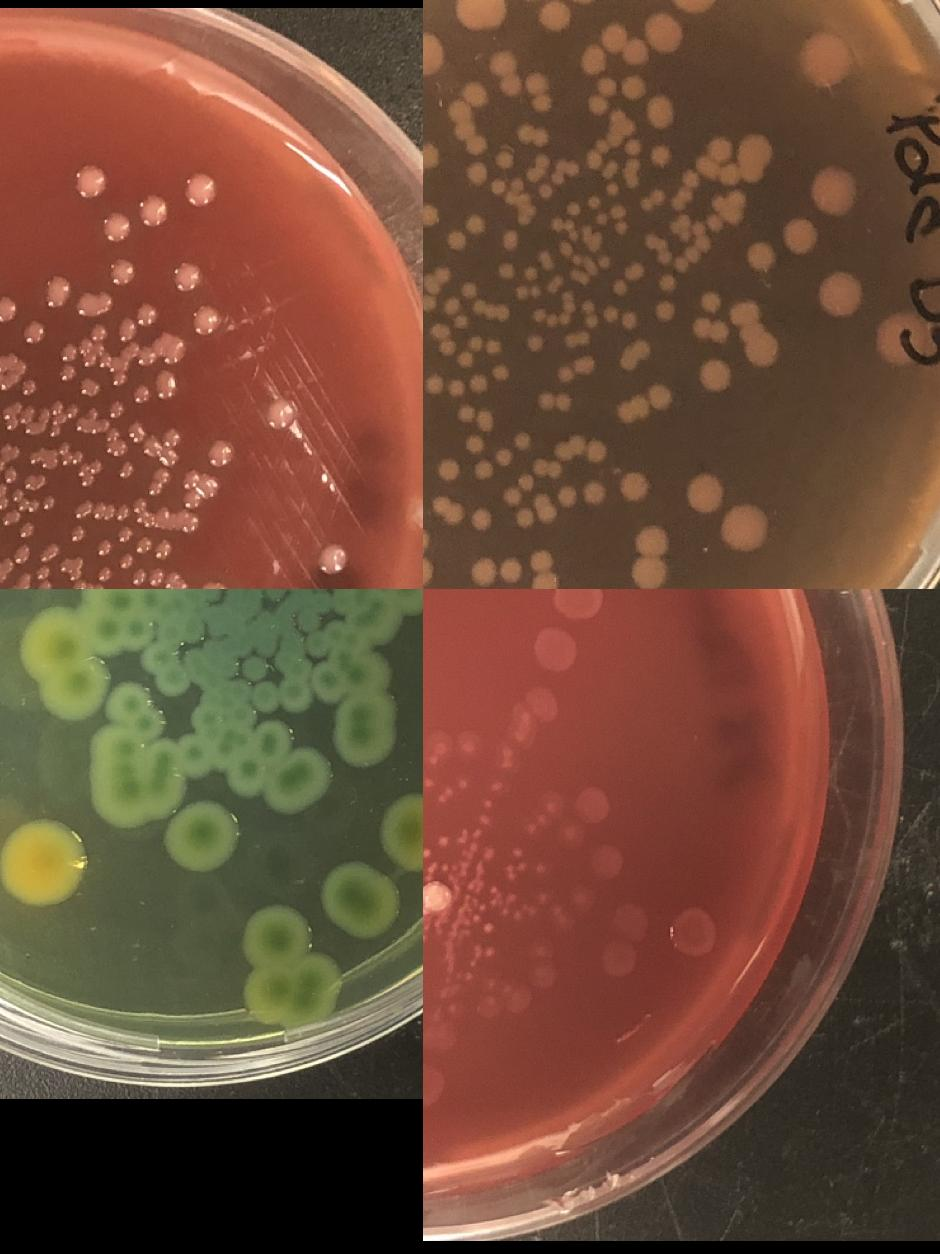pddamselae: (578, 11, 686, 75), (48, 400, 129, 459), (0, 444, 56, 515), (797, 28, 855, 88), (500, 470, 557, 530), (812, 265, 867, 323), (718, 500, 772, 558), (808, 163, 862, 221), (446, 80, 487, 156), (114, 552, 190, 589), (586, 74, 649, 117), (631, 524, 669, 589), (125, 424, 180, 467), (428, 321, 474, 369), (115, 525, 173, 561), (778, 214, 820, 260), (468, 556, 524, 588), (58, 450, 102, 490), (113, 304, 158, 342), (683, 472, 724, 512), (488, 49, 521, 98), (76, 324, 110, 370), (423, 25, 449, 83), (616, 469, 652, 505), (698, 357, 734, 393), (524, 70, 552, 116), (445, 372, 489, 400), (666, 213, 706, 243), (537, 0, 573, 33), (642, 94, 674, 130), (689, 316, 730, 344), (3, 407, 40, 438), (72, 290, 112, 318), (745, 239, 777, 273), (602, 306, 638, 332), (183, 471, 218, 497), (664, 0, 718, 16), (535, 390, 572, 413), (76, 166, 105, 194), (186, 175, 214, 204), (40, 275, 68, 303), (102, 212, 130, 240), (108, 257, 136, 285), (137, 196, 165, 224), (152, 370, 180, 398), (172, 261, 200, 289), (190, 305, 218, 333), (266, 399, 294, 427), (318, 547, 346, 575), (646, 381, 672, 411), (462, 162, 488, 190), (581, 480, 607, 508), (647, 143, 674, 169), (638, 188, 666, 213), (434, 457, 460, 483), (527, 566, 556, 589), (71, 502, 106, 521), (146, 468, 168, 497), (652, 298, 676, 324), (579, 298, 599, 329), (531, 308, 559, 330), (562, 330, 591, 350), (76, 375, 100, 399), (470, 458, 494, 482), (628, 338, 652, 362), (698, 290, 722, 314), (208, 438, 231, 461), (2, 573, 35, 589), (22, 320, 44, 344), (443, 230, 467, 252), (464, 214, 488, 236), (514, 121, 536, 145), (33, 563, 53, 589), (510, 284, 542, 300), (423, 201, 441, 229), (656, 273, 678, 295), (453, 402, 475, 423), (464, 433, 484, 455), (471, 508, 491, 530), (483, 336, 503, 358), (489, 361, 509, 383), (554, 363, 574, 385), (556, 486, 576, 508), (524, 332, 543, 355), (55, 341, 75, 362), (423, 554, 435, 588), (56, 364, 76, 384), (64, 523, 84, 543), (92, 538, 112, 558), (94, 566, 114, 586), (423, 372, 441, 394), (16, 521, 36, 539), (132, 383, 150, 403), (512, 432, 532, 450), (609, 276, 627, 296), (496, 262, 515, 280), (12, 546, 30, 564), (19, 378, 37, 396), (116, 462, 134, 480), (136, 348, 154, 366), (182, 516, 200, 534), (494, 448, 512, 466), (521, 265, 539, 283), (544, 461, 562, 479), (199, 578, 227, 589), (412, 498, 423, 526), (112, 504, 129, 522), (182, 492, 200, 509), (451, 313, 468, 331), (487, 177, 504, 195), (108, 400, 123, 420), (460, 282, 478, 298), (423, 294, 436, 314), (26, 449, 40, 467), (108, 372, 126, 386), (538, 184, 552, 200), (566, 200, 580, 216), (586, 195, 600, 211), (614, 219, 628, 235), (596, 254, 610, 269), (606, 181, 619, 197), (0, 299, 12, 316), (560, 218, 574, 232), (594, 212, 608, 226), (71, 578, 86, 589), (49, 426, 62, 438), (0, 562, 6, 579)
tmaritimum: (528, 627, 578, 677), (669, 906, 719, 956), (484, 974, 534, 1010), (519, 794, 559, 839), (552, 589, 602, 621), (573, 787, 609, 823), (587, 845, 623, 881), (598, 941, 634, 977), (614, 902, 650, 938), (423, 1062, 447, 1112), (504, 859, 550, 882), (509, 714, 537, 742), (528, 690, 556, 718), (460, 826, 483, 858), (530, 963, 556, 991), (438, 859, 470, 879), (466, 878, 501, 894), (509, 906, 540, 922), (499, 745, 517, 772), (460, 913, 479, 937), (530, 941, 550, 961), (559, 824, 579, 844), (572, 887, 592, 907), (553, 911, 572, 931), (446, 1000, 466, 1018), (467, 942, 482, 966), (478, 998, 498, 1016), (436, 787, 453, 804), (478, 897, 497, 912), (424, 755, 442, 769), (434, 834, 452, 848), (479, 920, 496, 934), (479, 848, 496, 862), (479, 795, 496, 809), (488, 779, 504, 793), (431, 740, 448, 753), (475, 814, 492, 827), (509, 843, 524, 857), (535, 891, 550, 905), (456, 777, 470, 791), (460, 738, 474, 752), (506, 889, 520, 903), (423, 776, 434, 790)
valgino: (0, 820, 84, 904), (164, 800, 236, 872), (382, 793, 423, 869)
